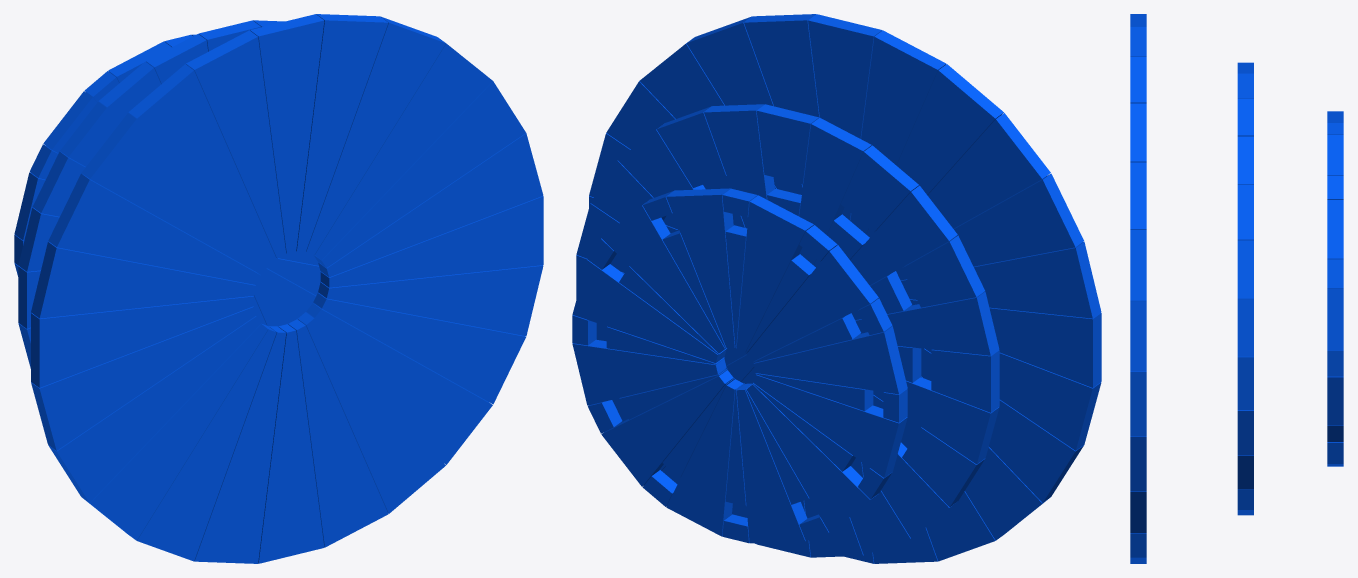
The model's file is positive-endcap-chambers.obj.
3 renders of one model, left to right at view 1: azimuth 30°, elevation 25°; view 2: azimuth 150°, elevation 25°; view 3: azimuth 270°, elevation 25°, orthographic. The views are drawn at different scales.
Parts seen in each view (by area): view 1: chamber_EP3_REFINED_FULL_S10, chamber_EP3_REFINED_FULL_S08, chamber_EP3_REFINED_FULL_S11, chamber_EP3_REFINED_FULL_S07, chamber_EP3_REFINED_FULL_S09, chamber_EP3_REFINED_FULL_S06, chamber_EP3_REFINED_FULL_S12, chamber_EP3_REFINED_FULL_S13, chamber_EP3_REFINED_FULL_S05, chamber_EP3_REFINED_FULL_S14, chamber_EP3_REFINED_FULL_S21, chamber_EP3_REFINED_FULL_S04 (+25 smaller); view 2: chamber_EP3_REFINED_FULL_S10, chamber_EP3_REFINED_FULL_S09, chamber_EP3_REFINED_FULL_S08, chamber_EP3_REFINED_FULL_S11, chamber_EP3_REFINED_FULL_S07, chamber_EP3_REFINED_FULL_S12, chamber_EP3_REFINED_FULL_S06, chamber_EP1_REFINED_CORE_S05, chamber_EP1_REFINED_CORE_S03, chamber_EP1_REFINED_CORE_S04, chamber_EP1_REFINED_CORE_S06, chamber_EP1_REFINED_CORE_S02 (+55 smaller); view 3: chamber_EP3_REFINED_FULL_S01, chamber_EP3_REFINED_FULL_S02, chamber_EP3_REFINED_FULL_S03, chamber_EP3_REFINED_FULL_S00, chamber_EP1_REFINED_CORE_S00, chamber_EP1_REFINED_CORE_S01, chamber_EP3_REFINED_FULL_S04, chamber_EP2_REFINED_BT_HIGH_S01, chamber_EP2_REFINED_FULL_S00, chamber_EP2_REFINED_FULL_S01, chamber_EP3_REFINED_FULL_S23, chamber_EP2_REFINED_BT_HIGH_S00 (+17 smaller).
Boxes of the visible parts, bbox=[...] form: chamber_EP3_REFINED_FULL_S10: bbox=[48, 173, 260, 284]; chamber_EP3_REFINED_FULL_S08: bbox=[128, 64, 276, 265]; chamber_EP3_REFINED_FULL_S11: bbox=[31, 241, 256, 318]; chamber_EP3_REFINED_FULL_S07: bbox=[186, 30, 286, 258]; chamber_EP3_REFINED_FULL_S09: bbox=[81, 113, 267, 274]; chamber_EP3_REFINED_FULL_S06: bbox=[250, 14, 324, 253]; chamber_EP3_REFINED_FULL_S12: bbox=[31, 296, 253, 387]; chamber_EP3_REFINED_FULL_S13: bbox=[31, 306, 256, 450]; chamber_EP3_REFINED_FULL_S05: bbox=[296, 14, 388, 251]; chamber_EP3_REFINED_FULL_S14: bbox=[48, 316, 260, 502]; chamber_EP3_REFINED_FULL_S21: bbox=[306, 303, 492, 464]; chamber_EP3_REFINED_FULL_S04: bbox=[306, 16, 445, 254]; chamber_EP3_REFINED_FULL_S10: bbox=[896, 173, 1083, 280]; chamber_EP3_REFINED_FULL_S09: bbox=[927, 113, 1050, 228]; chamber_EP3_REFINED_FULL_S08: bbox=[866, 64, 1003, 237]; chamber_EP3_REFINED_FULL_S11: bbox=[900, 241, 1101, 318]; chamber_EP3_REFINED_FULL_S07: bbox=[850, 30, 946, 234]; chamber_EP3_REFINED_FULL_S12: bbox=[910, 299, 1101, 387]; chamber_EP3_REFINED_FULL_S06: bbox=[808, 14, 882, 220]; chamber_EP1_REFINED_CORE_S05: bbox=[753, 326, 907, 394]; chamber_EP1_REFINED_CORE_S03: bbox=[736, 195, 813, 352]; chamber_EP1_REFINED_CORE_S04: bbox=[746, 245, 878, 361]; chamber_EP1_REFINED_CORE_S06: bbox=[753, 374, 907, 477]; chamber_EP1_REFINED_CORE_S02: bbox=[666, 188, 735, 348]; chamber_EP3_REFINED_FULL_S01: bbox=[1130, 300, 1146, 371]; chamber_EP3_REFINED_FULL_S02: bbox=[1130, 229, 1146, 300]; chamber_EP3_REFINED_FULL_S03: bbox=[1130, 162, 1146, 229]; chamber_EP3_REFINED_FULL_S00: bbox=[1130, 371, 1146, 436]; chamber_EP1_REFINED_CORE_S00: bbox=[1327, 288, 1343, 349]; chamber_EP1_REFINED_CORE_S01: bbox=[1327, 200, 1343, 259]; chamber_EP3_REFINED_FULL_S04: bbox=[1130, 103, 1146, 162]; chamber_EP2_REFINED_BT_HIGH_S01: bbox=[1237, 240, 1253, 298]; chamber_EP2_REFINED_FULL_S00: bbox=[1237, 298, 1253, 356]; chamber_EP2_REFINED_FULL_S01: bbox=[1237, 184, 1253, 240]; chamber_EP3_REFINED_FULL_S23: bbox=[1130, 436, 1146, 491]; chamber_EP2_REFINED_BT_HIGH_S00: bbox=[1237, 356, 1253, 410].
Size of the model in its own units: 16.76 by 16.76 by 6.55.
